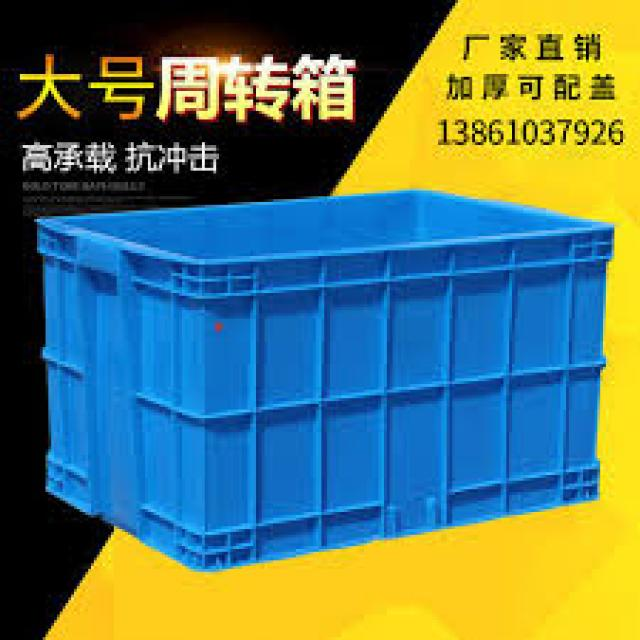basket: (39, 185, 615, 576)
